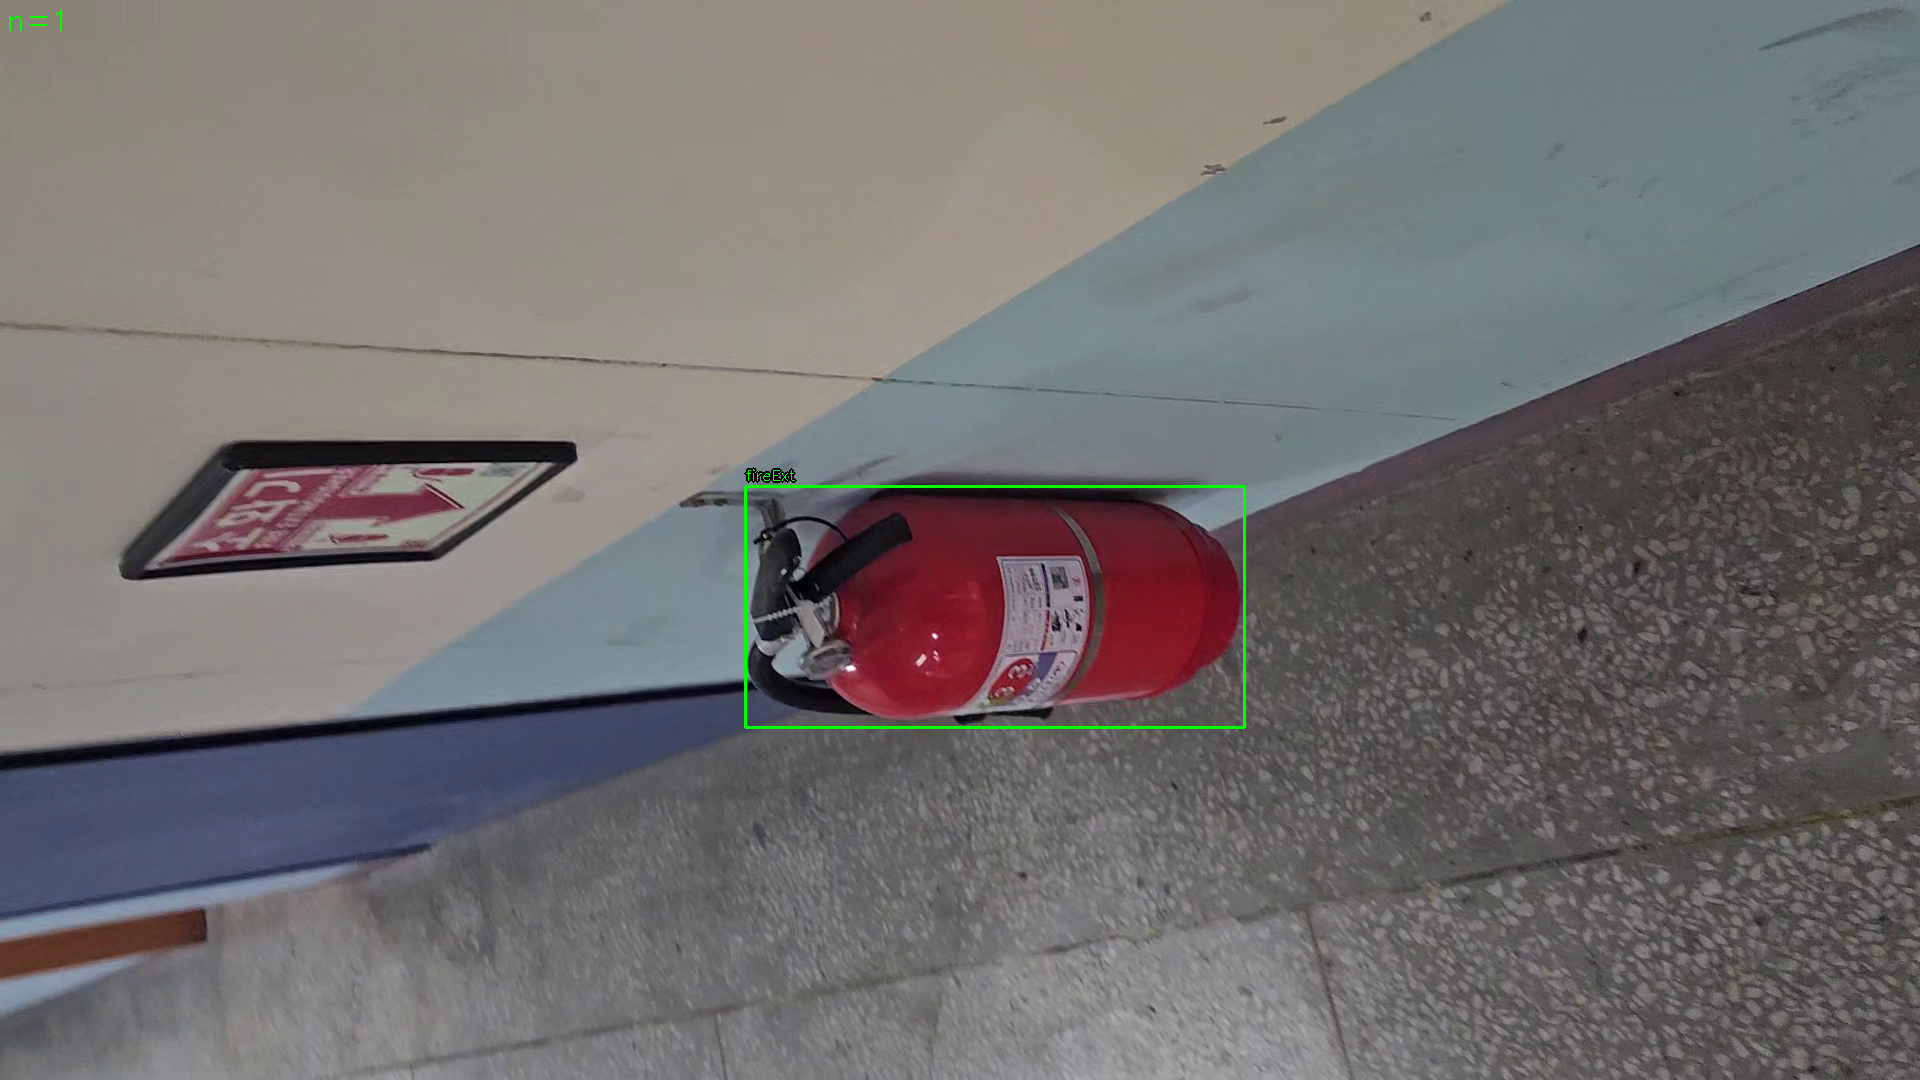lane: (745, 487, 1245, 728)
